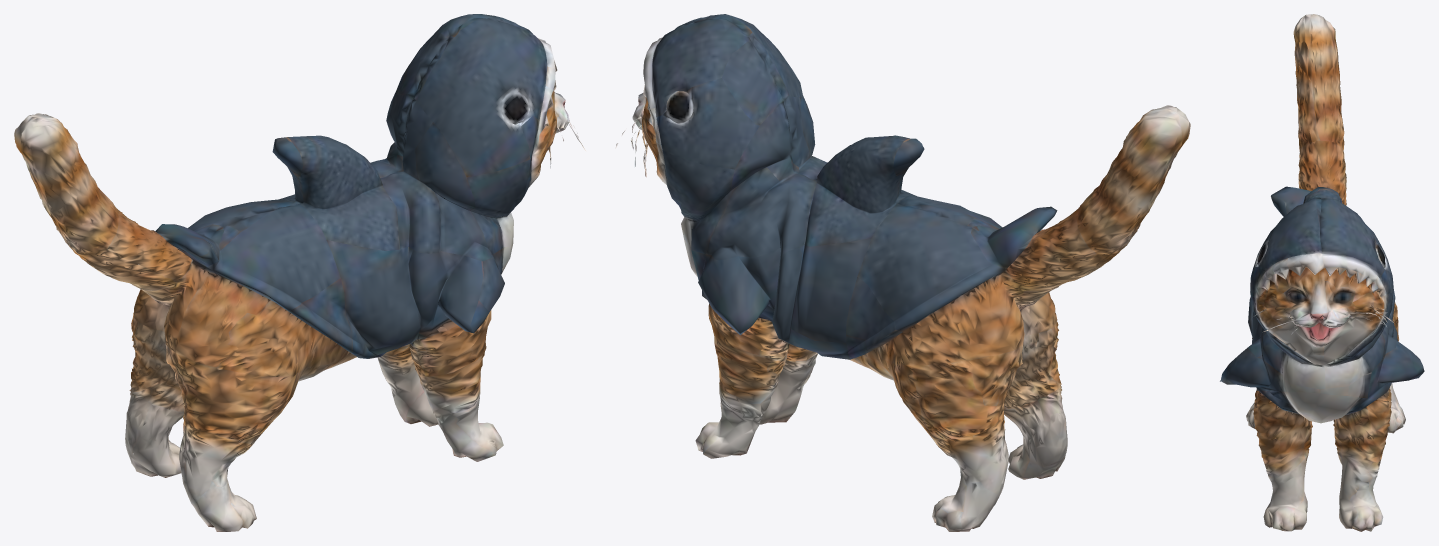
Rendered from SAMENYAN.glb.
3 views of the same model, side by side, from view 1: azimuth 30°, elevation 25°; view 2: azimuth 150°, elevation 25°; view 3: azimuth 270°, elevation 25° (orthographic). The views are drawn at different scales.
Parts seen in each view (by area): view 1: tripo_node_b870f6d2-941d-435a-a956-18df1b6ae715; view 2: tripo_node_b870f6d2-941d-435a-a956-18df1b6ae715; view 3: tripo_node_b870f6d2-941d-435a-a956-18df1b6ae715.
Part boxes in pixels (left/top/right/bottom): tripo_node_b870f6d2-941d-435a-a956-18df1b6ae715: left=14, top=14, right=585, bottom=531; tripo_node_b870f6d2-941d-435a-a956-18df1b6ae715: left=615, top=14, right=1190, bottom=531; tripo_node_b870f6d2-941d-435a-a956-18df1b6ae715: left=1220, top=14, right=1424, bottom=531.
Bounding box in the file's own units: 1.34 × 0.999 × 0.5367.
Materials: 1 (1 with a texture image).
